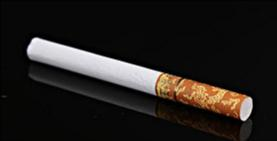Cigarette: (26, 36, 253, 122)
